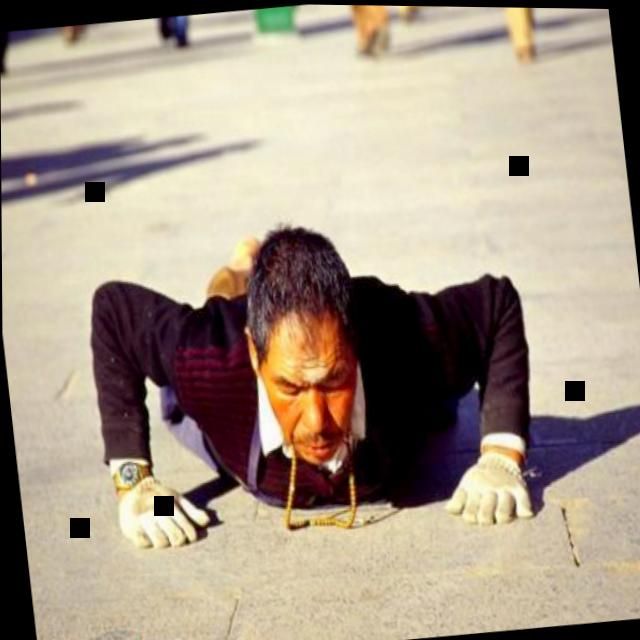Fall-Detected: (74, 146, 561, 585)
